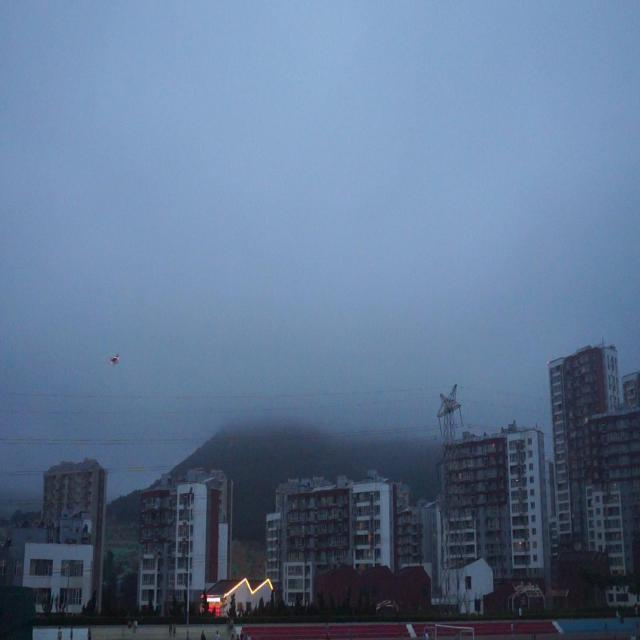drone: (108, 348, 123, 372)
